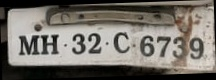character: (17, 34, 39, 56), (40, 34, 60, 55), (113, 30, 130, 53), (138, 34, 154, 57), (188, 36, 204, 59), (71, 32, 86, 54), (87, 32, 102, 54), (171, 36, 186, 58), (156, 35, 170, 57)
